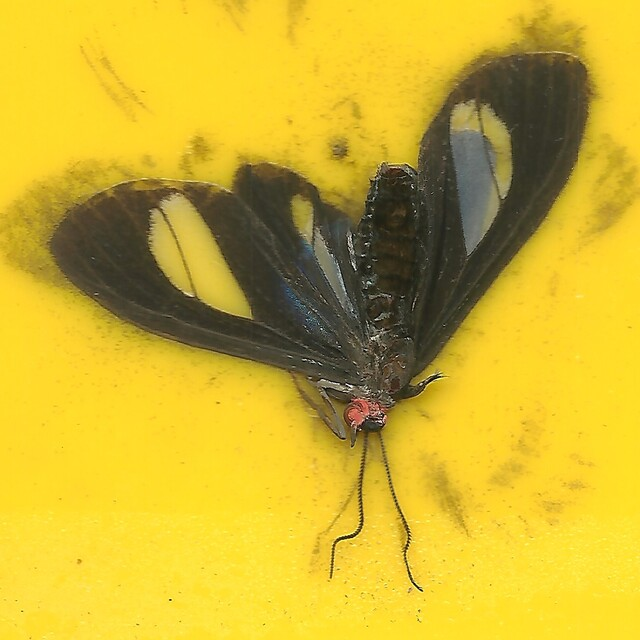Lepidoptera: (48, 51, 592, 589)
